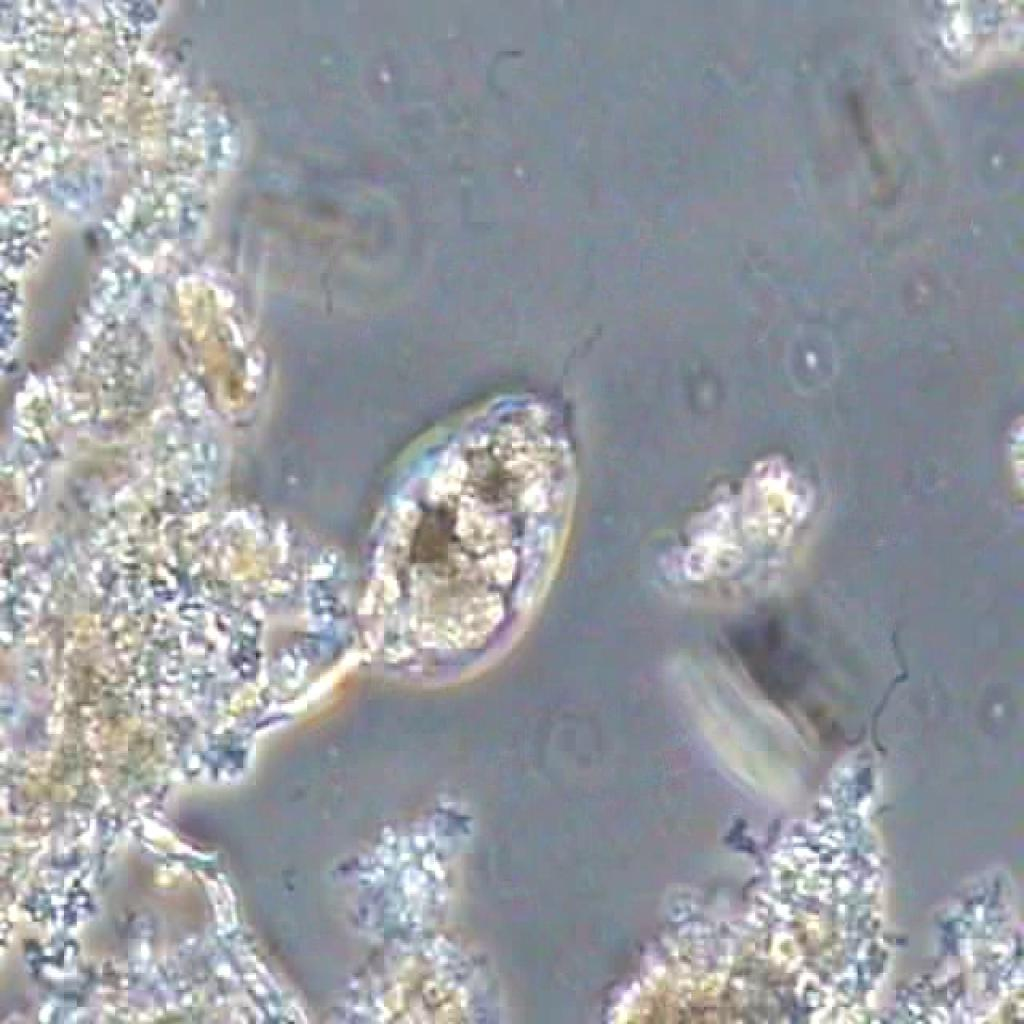Rotatoria: (274, 349, 618, 780)
